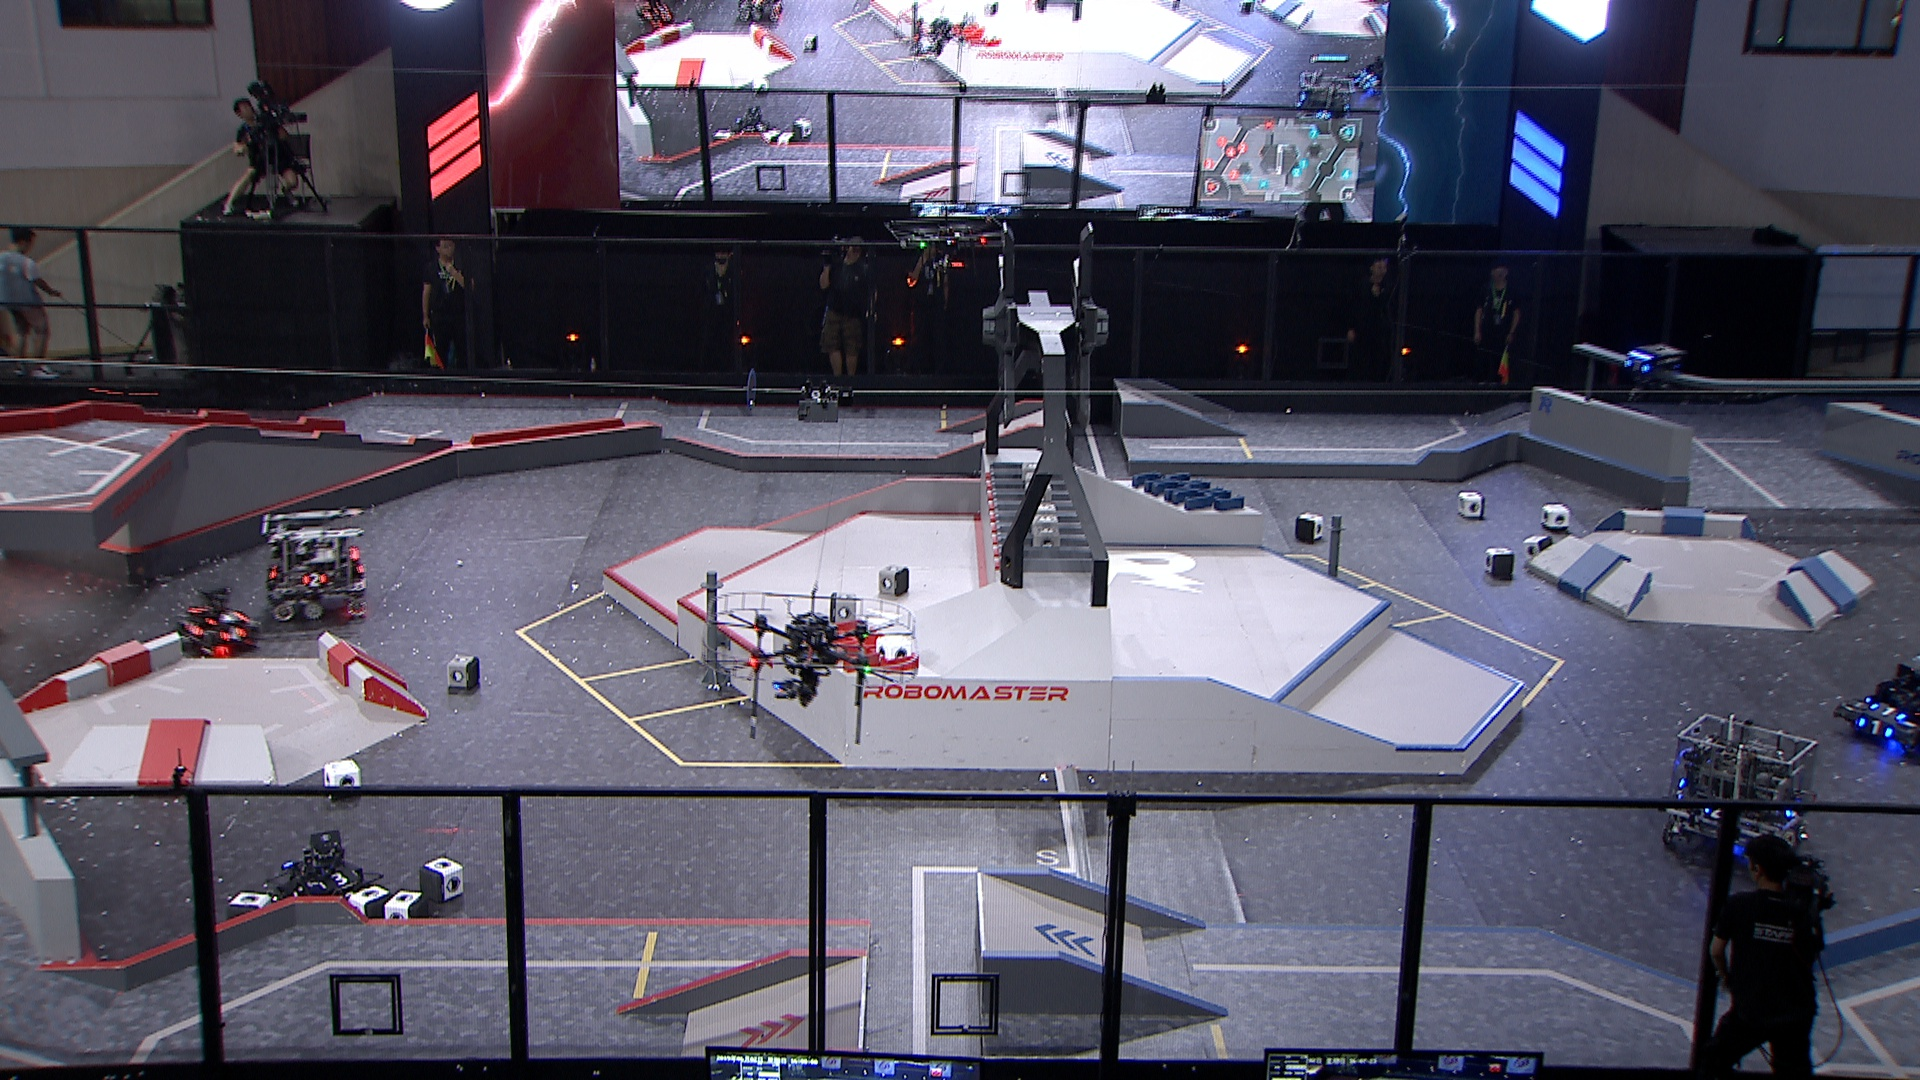armor: (324, 865, 353, 893), (212, 604, 243, 622), (1863, 717, 1892, 736), (1702, 800, 1727, 822), (1873, 702, 1899, 721), (175, 617, 202, 637), (219, 622, 244, 641), (1780, 798, 1803, 818), (299, 572, 324, 589), (1623, 357, 1647, 371)
car: (1660, 711, 1818, 862), (255, 506, 373, 621), (1837, 644, 1920, 757), (272, 836, 372, 920), (173, 583, 258, 657)
ignore: (1300, 74, 1349, 119), (1349, 55, 1390, 96), (727, 105, 767, 140), (637, 0, 678, 26)
watcher: (1619, 338, 1695, 405)
